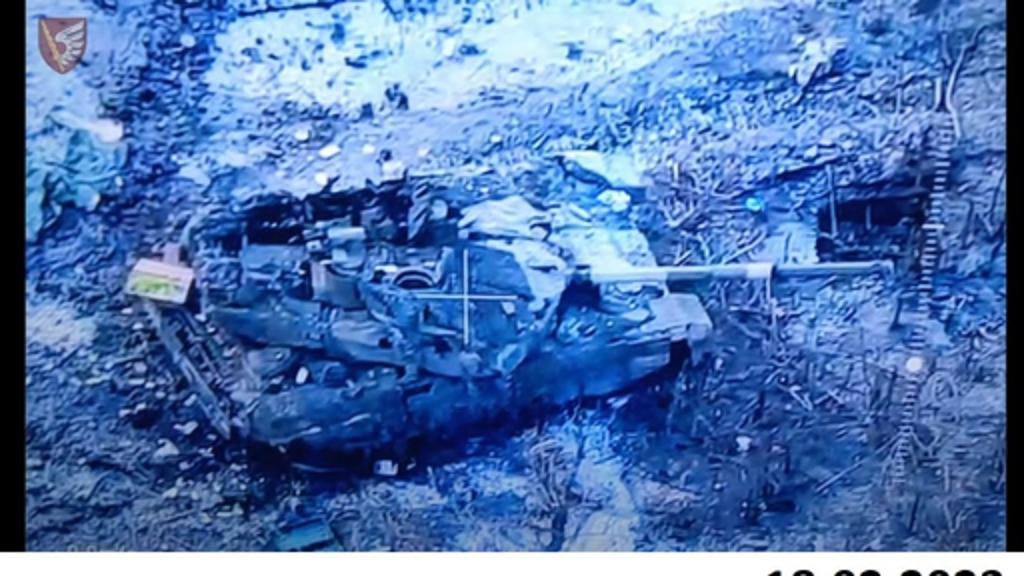TANK: (124, 174, 898, 484)
